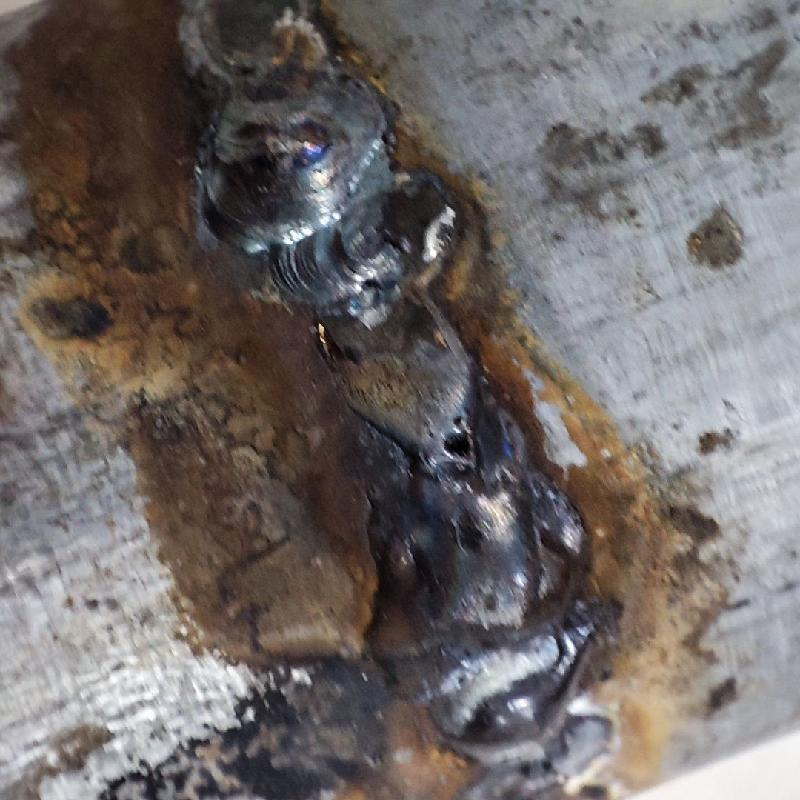Surface_pores: (413, 405, 483, 470)
Weld: (361, 469, 601, 771)
wrong_size: (170, 2, 398, 220)
